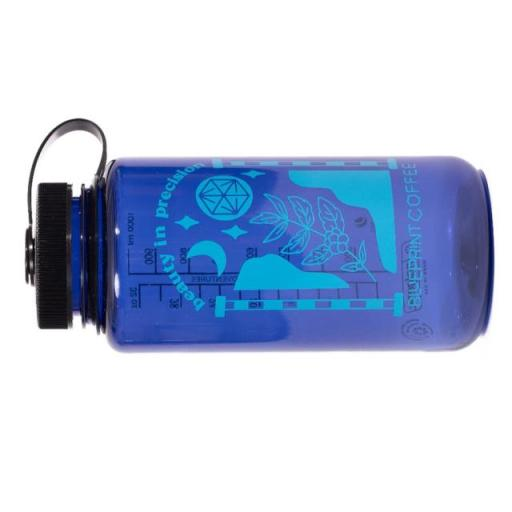bottle: (23, 116, 495, 354)
